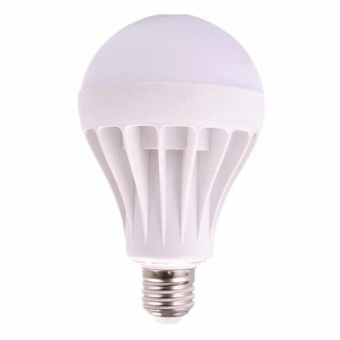Light_bulb: (74, 11, 272, 325)
